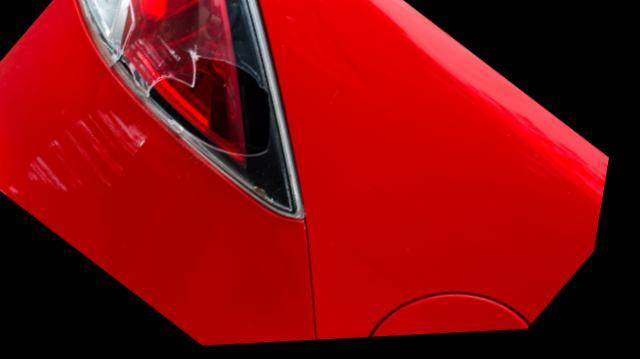lamp broken: (78, 0, 310, 217)
scratch: (0, 109, 158, 206)
